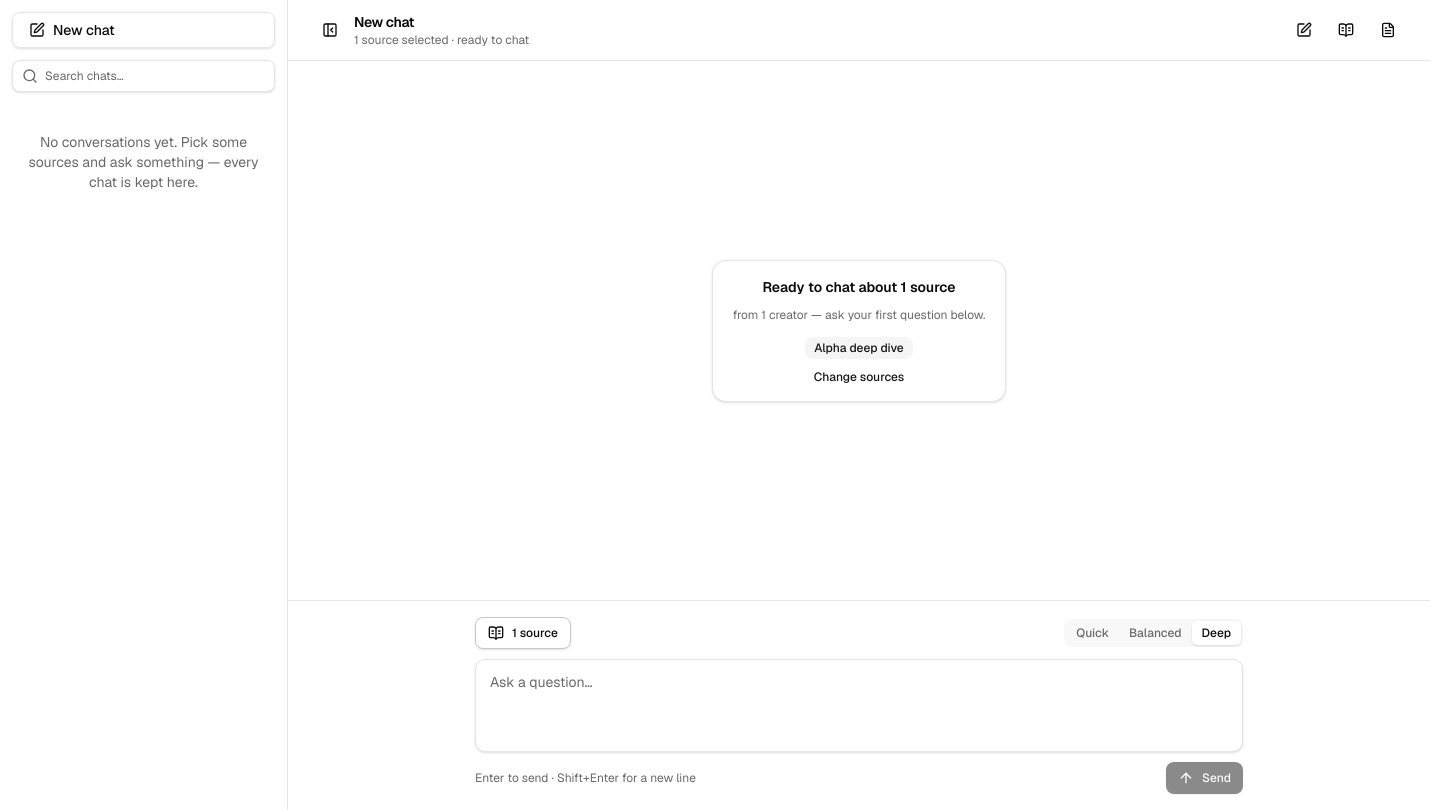
Test: ChatWorkspace — history sidebar › adds a newly stopped conversation to history even before its first answer
Type "Stop before the answer" into the text box named "Your message" at (859, 702), box top-left (476, 660), bottom-right (1242, 744)
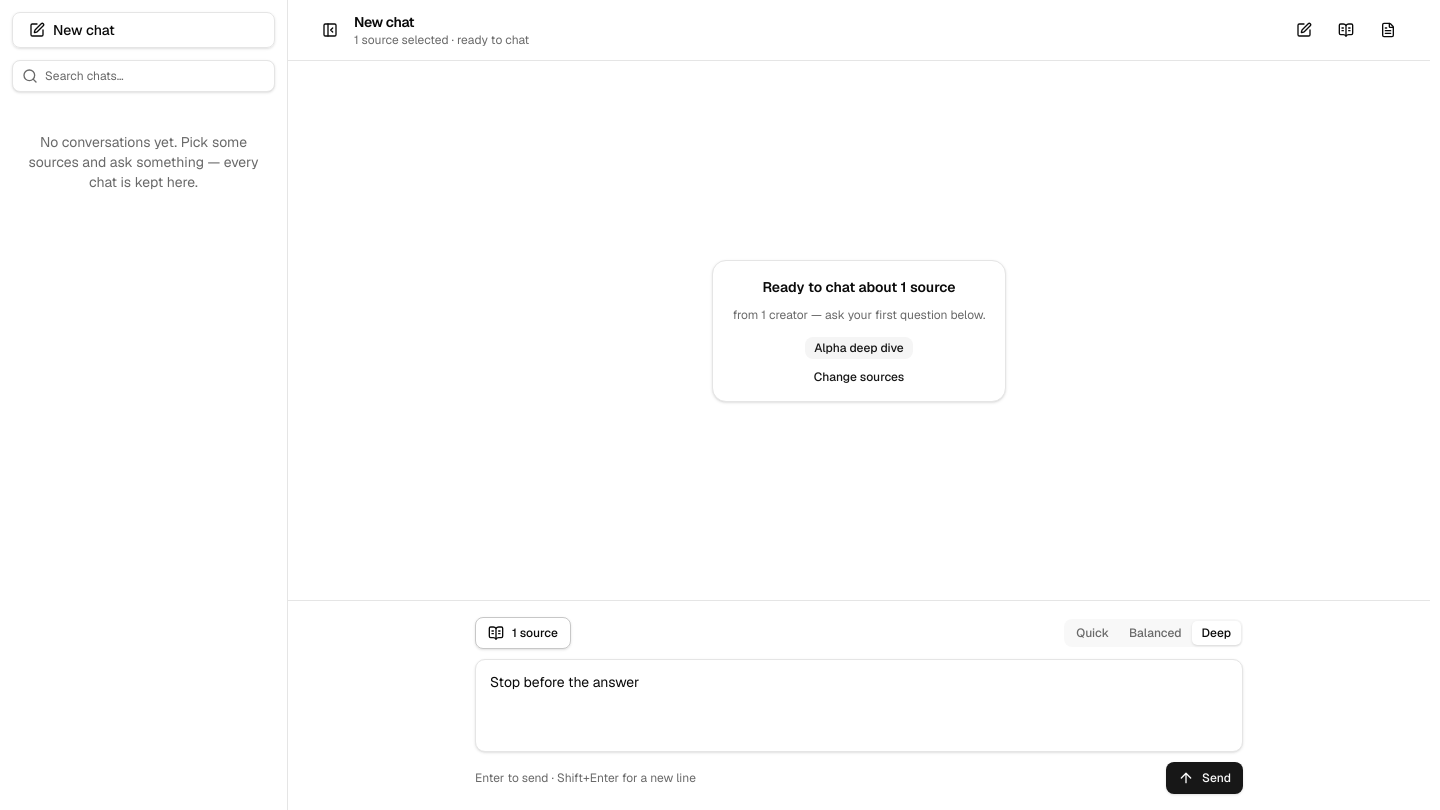
Click the button "Send" at (1204, 778), box top-left (1166, 762), bottom-right (1243, 794)
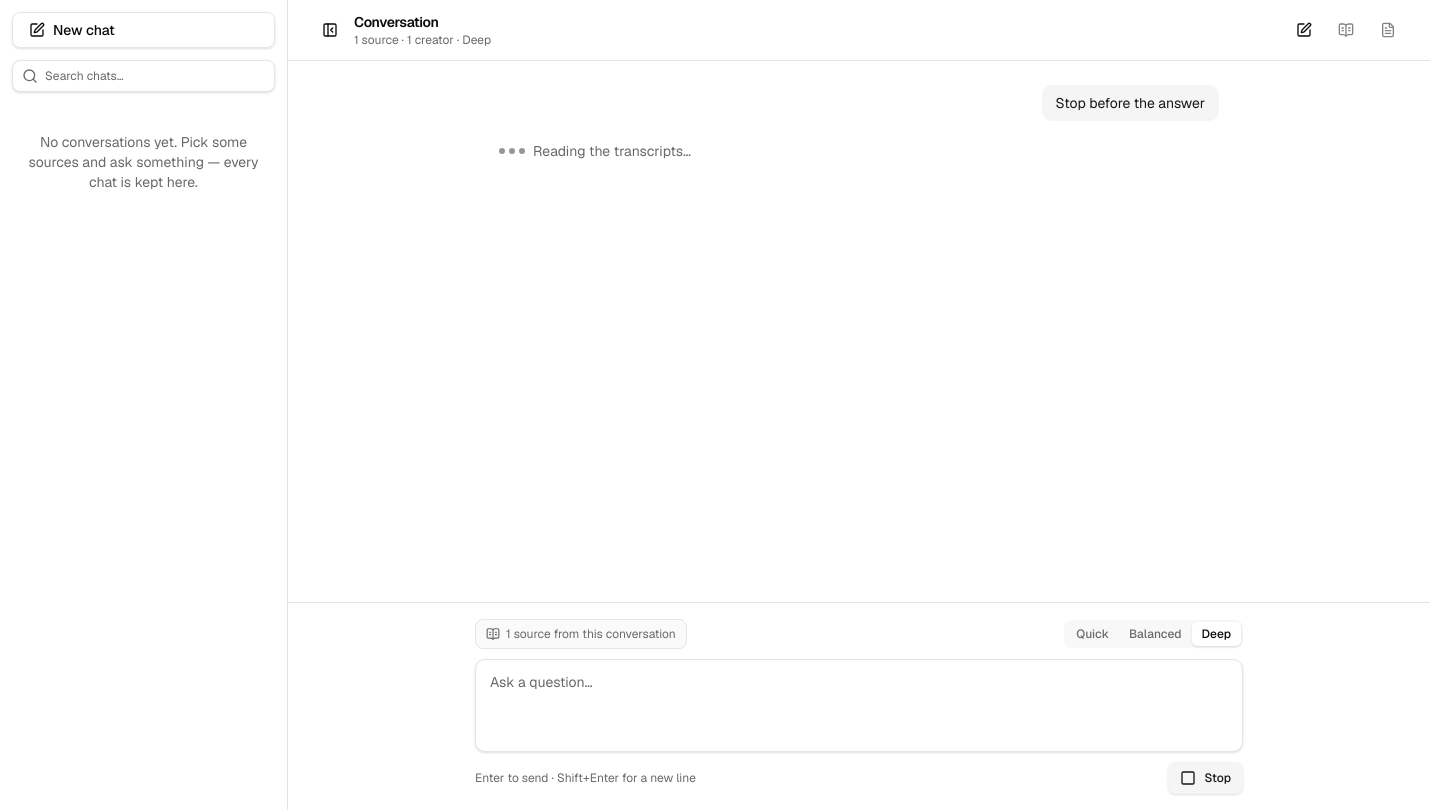
Click the button "Stop" at (1206, 778), box top-left (1168, 762), bottom-right (1243, 794)
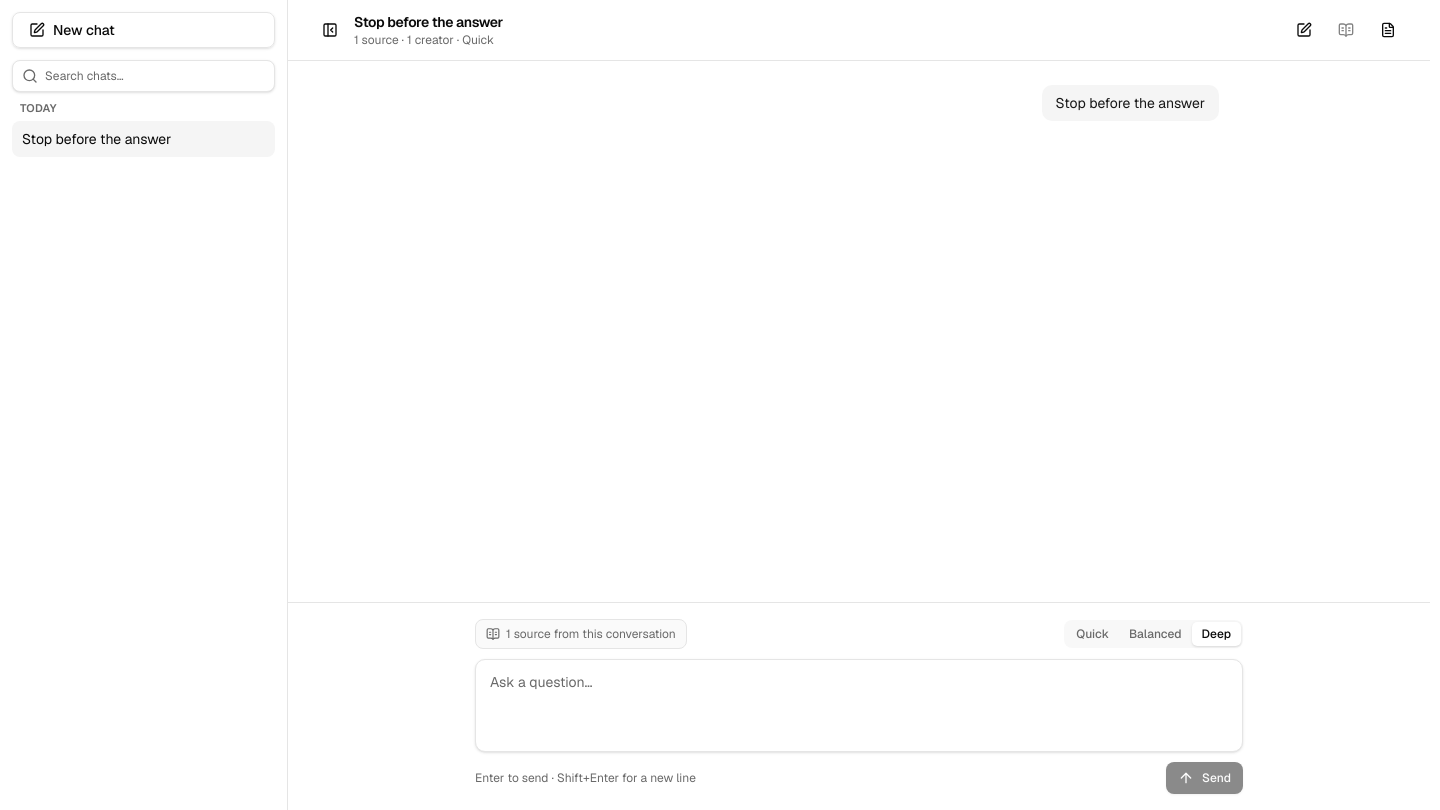
Result: the heading "Stop before the answer" is shown at top-left (354, 13), bottom-right (503, 31)
